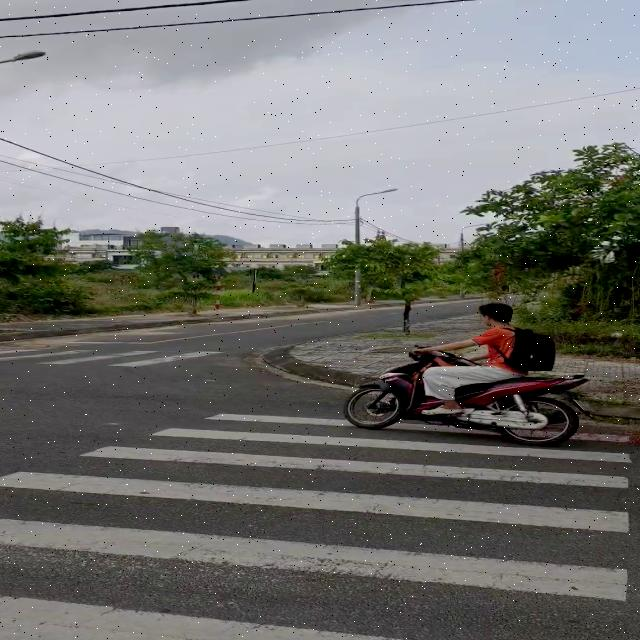no_helmet: (479, 303, 512, 322)
